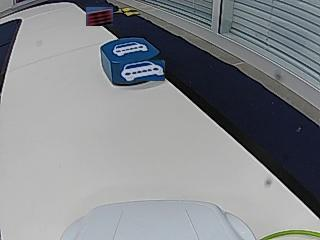safety: (112, 41, 147, 56)
